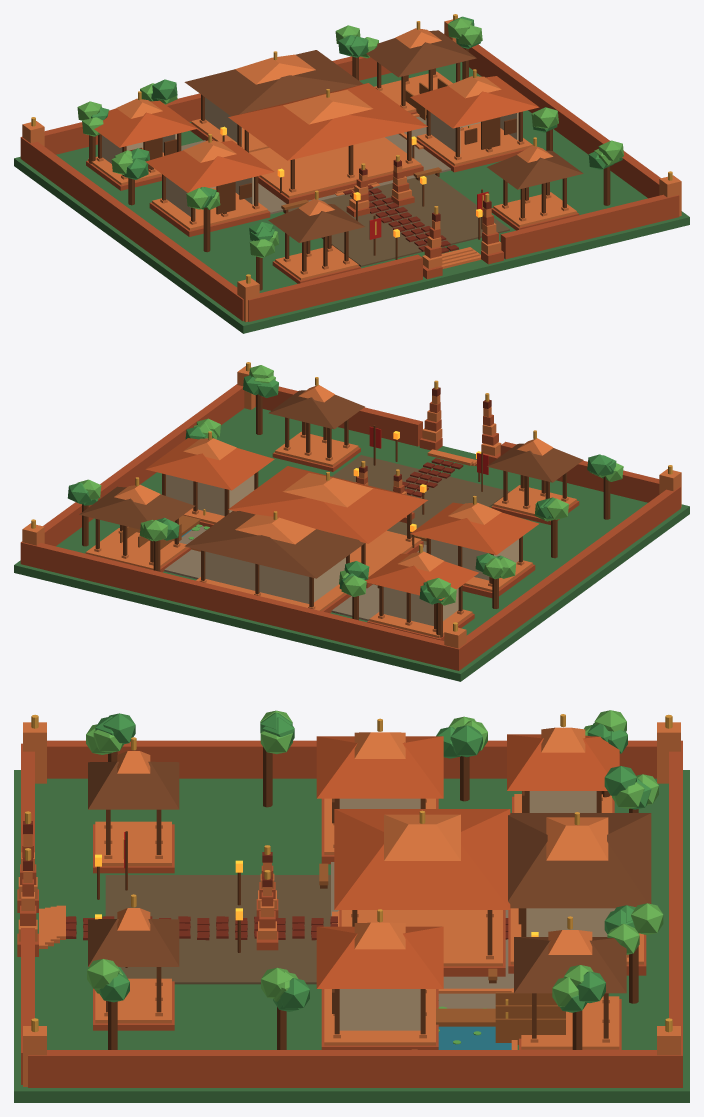
File: low_poly_majapahit_royal_rest.glb
3 renders of one model, top to bottom at view 1: azimuth 30°, elevation 25°; view 2: azimuth 150°, elevation 25°; view 3: azimuth 270°, elevation 25°, orthographic. The views are drawn at different scales.
Parts seen in each view (by area): view 1: CompoundGround, RoyalPendopo_Roof, WallLeft, MainCourtyard, RoyalGuestHouse_Roof, RoyalPendopo_PlatformTrim, WallFrontRight, WallFrontLeft, WallRight, EastLodge_Roof, WestLodge_Roof, StableStore_Roof (+27 smaller); view 2: CompoundGround, WallRear, WallLeft, RoyalPendopo_Roof, RoyalGuestHouse_Roof, WallRight, MainCourtyard, EastLodge_Roof, WestLodge_Roof, RoyalGuestHouse_RearWall, StableStore_Roof, RoyalKitchen_Roof (+24 smaller); view 3: CompoundGround, WallRight, MainCourtyard, RoyalPendopo_Roof, RoyalGuestHouse_Roof, WallLeft, WestLodge_Roof, EastLodge_Roof, RoyalKitchen_Roof, RoyalPendopo_PlatformTrim, StableStore_Roof, WallRear (+46 smaller).
Part boxes in pixels (x1,y1,x2,y2): CompoundGround: [14, 62, 689, 333]; RoyalPendopo_Roof: [228, 83, 427, 160]; WallLeft: [23, 138, 243, 321]; MainCourtyard: [288, 174, 509, 266]; RoyalGuestHouse_Roof: [184, 50, 362, 116]; RoyalPendopo_PlatformTrim: [249, 137, 421, 198]; WallFrontRight: [500, 194, 679, 259]; WallFrontLeft: [248, 254, 422, 321]; WallRight: [469, 44, 660, 198]; EastLodge_Roof: [410, 76, 539, 128]; WestLodge_Roof: [145, 140, 274, 192]; StableStore_Roof: [366, 30, 476, 77]; CompoundGround: [14, 407, 689, 681]; WallRear: [20, 541, 462, 670]; WallLeft: [460, 486, 680, 668]; RoyalPendopo_Roof: [228, 466, 427, 543]; RoyalGuestHouse_Roof: [184, 511, 364, 578]; WallRight: [43, 384, 244, 546]; MainCourtyard: [194, 455, 509, 614]; EastLodge_Roof: [145, 438, 274, 490]; WestLodge_Roof: [410, 502, 539, 554]; RoyalGuestHouse_RearWall: [205, 551, 309, 603]; StableStore_Roof: [79, 486, 195, 529]; RoyalKitchen_Roof: [365, 553, 478, 600]; CompoundGround: [14, 770, 689, 1102]; WallRight: [28, 1050, 675, 1087]; MainCourtyard: [105, 875, 330, 984]; RoyalPendopo_Roof: [334, 809, 510, 909]; RoyalGuestHouse_Roof: [508, 813, 651, 908]; WallLeft: [47, 740, 656, 778]; WestLodge_Roof: [316, 736, 443, 798]; EastLodge_Roof: [316, 926, 443, 988]; RoyalKitchen_Roof: [507, 734, 619, 790]; RoyalPendopo_PlatformTrim: [341, 910, 502, 966]; StableStore_Roof: [514, 937, 626, 993]; WallRear: [669, 740, 682, 1087].
Bounding box in the file's own units: 54 × 10.21 × 48.
